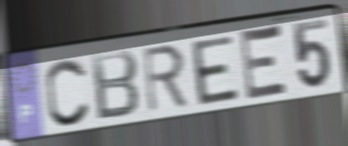5: (289, 18, 333, 92)
B: (89, 47, 142, 123)
C: (43, 56, 93, 129)
E: (239, 21, 291, 104), (189, 33, 242, 108)
R: (140, 42, 190, 117)
